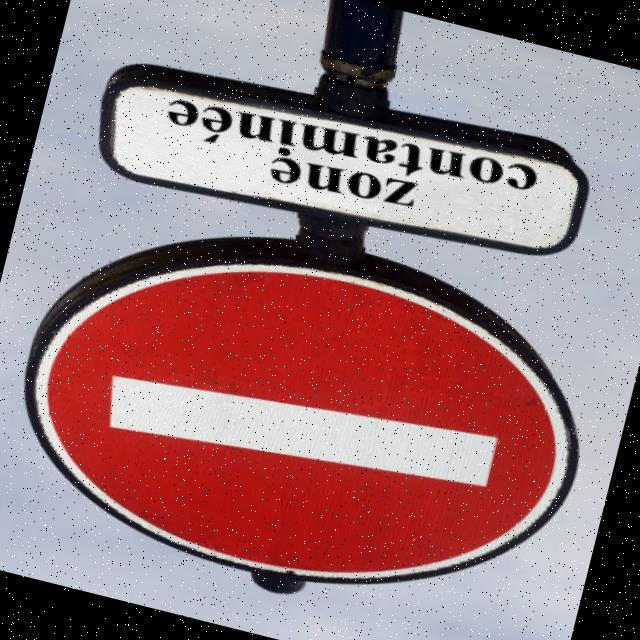do_not_enter: (0, 189, 620, 640)
